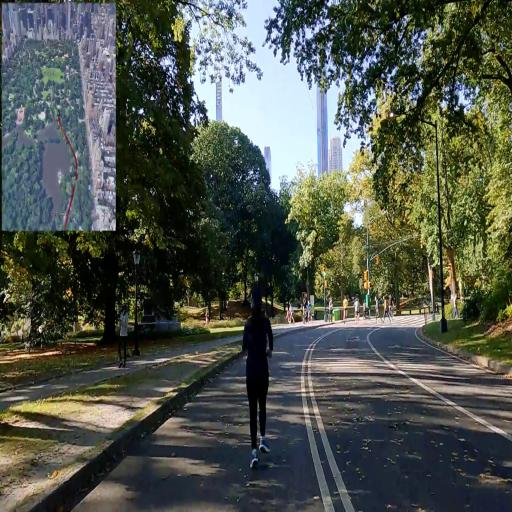Street_Light: (386, 106, 449, 330), (130, 241, 147, 361)
